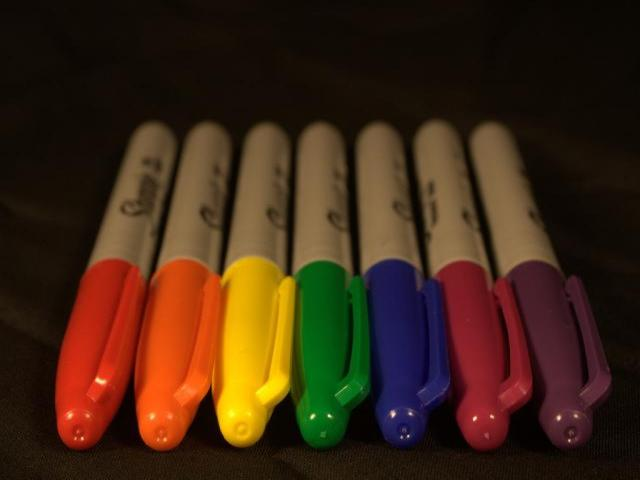PEN: (54, 114, 304, 455), (288, 119, 472, 458), (453, 122, 619, 449)
